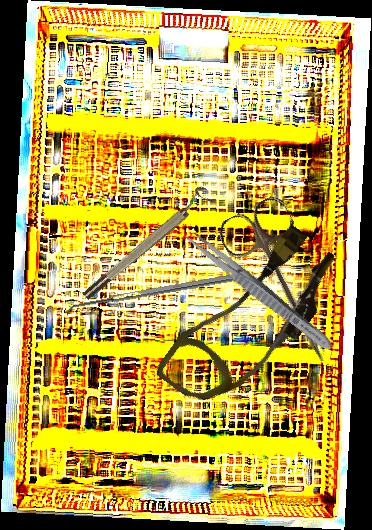Cannula: (153, 209, 350, 430)
Dressing Forceps: (179, 226, 337, 354)
Fixation Ring: (76, 183, 216, 303)
Iris Scissors: (213, 192, 359, 377)
Spatula Surgical: (65, 274, 235, 318)
